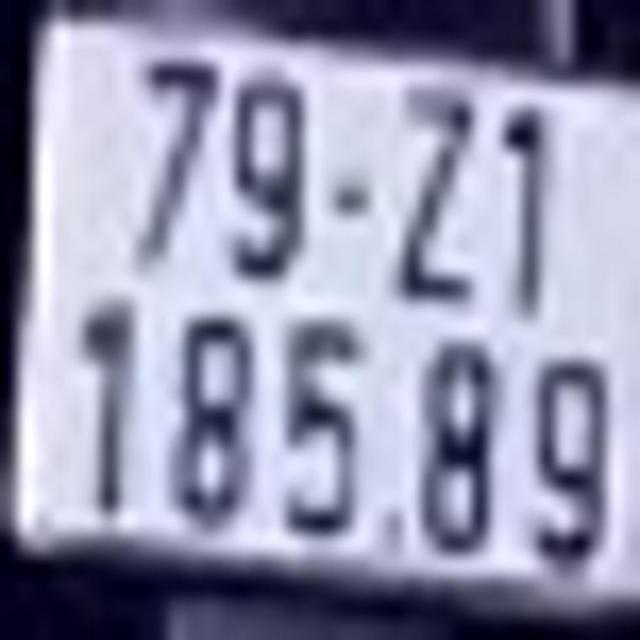1: (79, 297, 148, 514), (499, 93, 561, 324)
5: (276, 314, 360, 529)
7: (120, 56, 215, 274)
8: (176, 314, 259, 532), (420, 330, 496, 556)
9: (228, 54, 312, 284), (534, 354, 608, 573)
Z: (399, 70, 484, 302)
